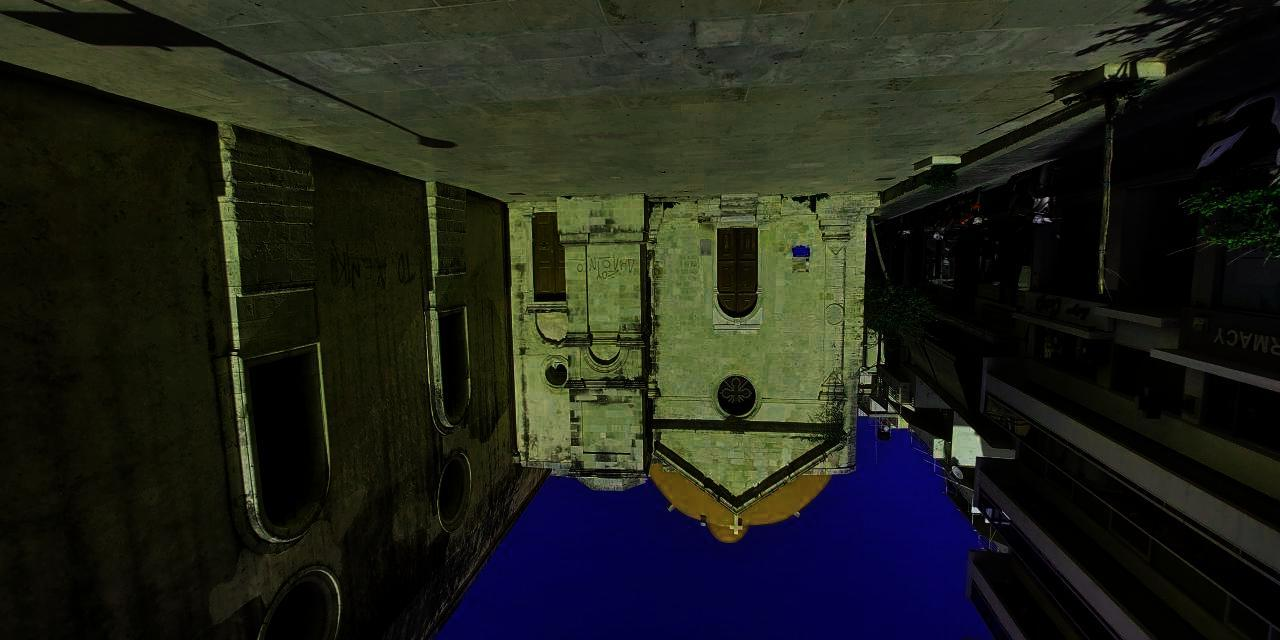Agia Aikaterini: (1, 73, 868, 639)
